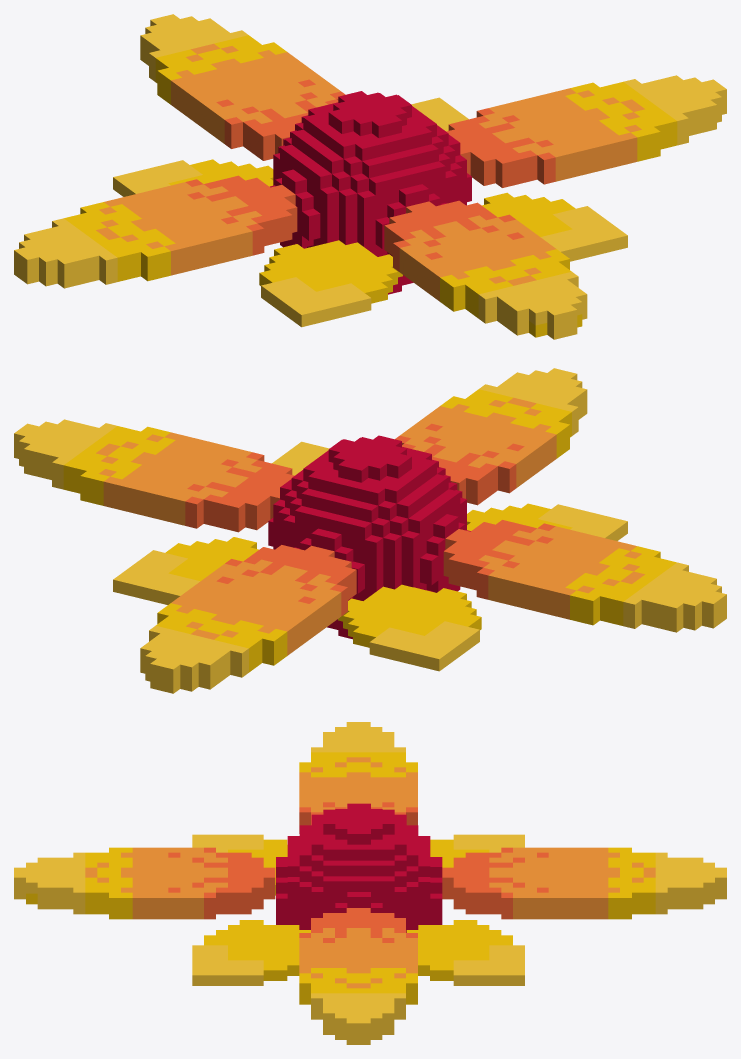
Rendered from TrampaAspa.FBX.
The picture shows the model from 3 angles, top to bottom: view 1: azimuth 30°, elevation 25°; view 2: azimuth 150°, elevation 25°; view 3: azimuth 270°, elevation 25°; orthographic projection. The views are drawn at different scales.
Parts seen in each view (by area): view 1: Aspas, CentroAspa; view 2: Aspas, CentroAspa; view 3: Aspas, CentroAspa.
Part boxes in pixels (left/top/right/bottom): Aspas: left=14, top=14, right=726, bottom=339; CentroAspa: left=270, top=91, right=471, bottom=294; Aspas: left=14, top=368, right=726, bottom=693; CentroAspa: left=268, top=435, right=470, bottom=639; Aspas: left=14, top=722, right=726, bottom=1044; CentroAspa: left=276, top=803, right=442, bottom=932.
Bounding box in the file's own units: 0.9996 × 0.2332 × 0.9996.
2 materials, 2 textured.
